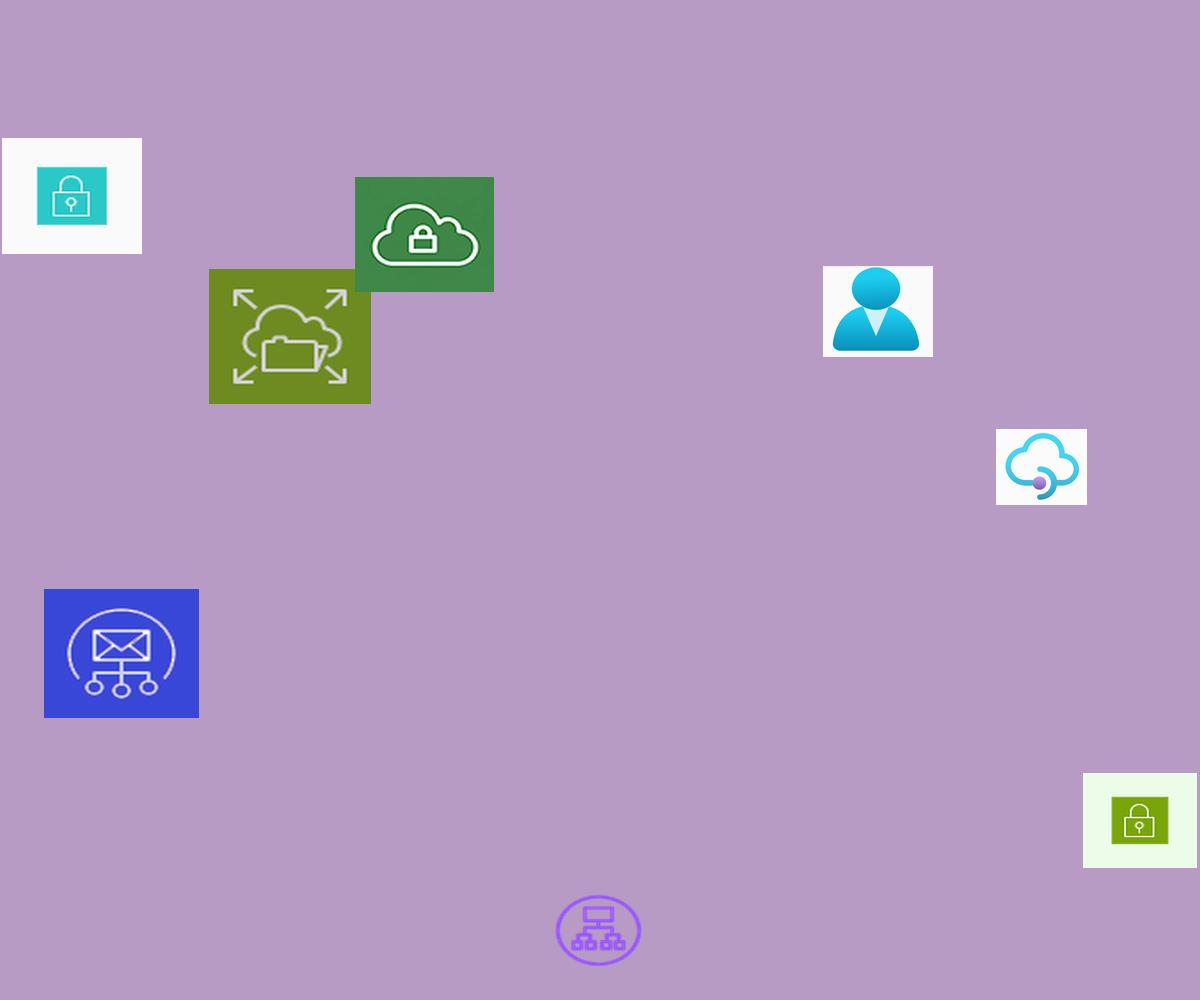AWS-EFS: (209, 269, 371, 404)
AWS-Private-subnet: (2, 138, 142, 254)
AWS-Private_vpc: (355, 177, 494, 292)
AWS-Public-subnet: (1083, 773, 1197, 868)
AWS-Res_Elastic-Load-Balancing_Application-Load-Balancer: (552, 892, 645, 969)
AWS-Simple-Email-Service: (44, 589, 199, 718)
Azure_api_gateway: (996, 429, 1087, 505)
Azure_users: (823, 266, 933, 357)
